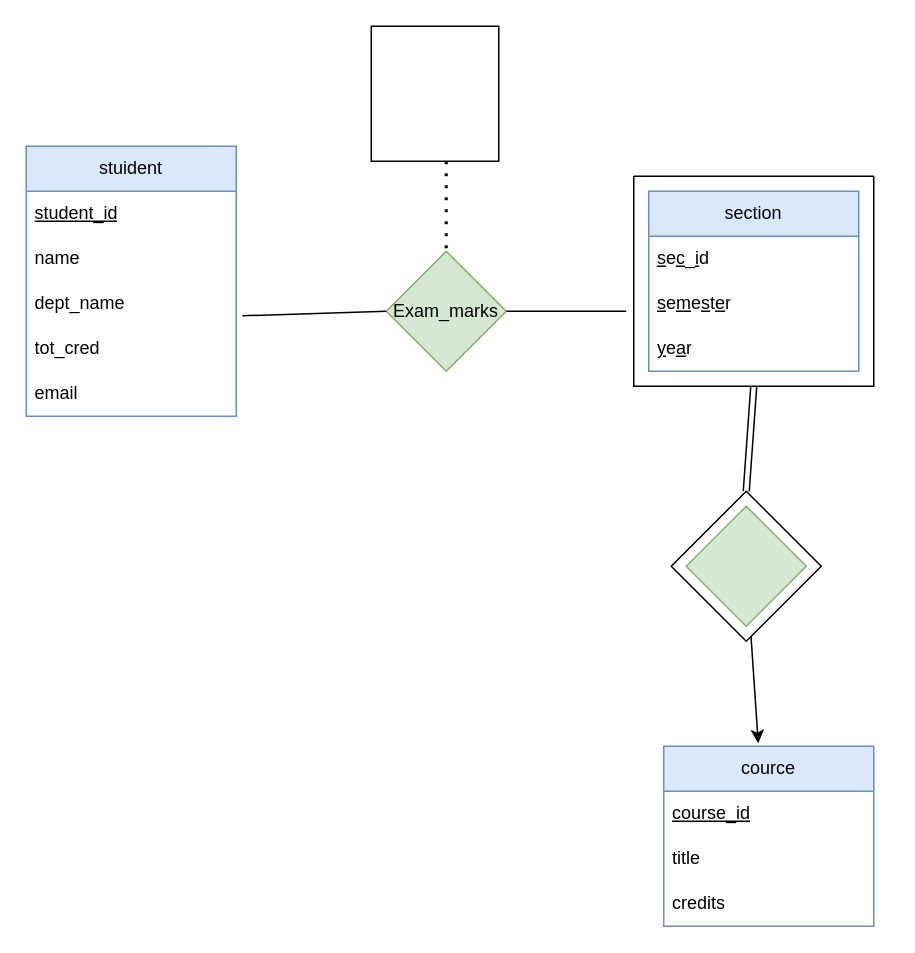
Some shapes in this 915 by 953 pixel diagram are drawn without their labels. The shapes that lost their labels are listed below. From the top down, each one's centre as x and y in pixels, then its label:
point (434, 93): grades id date
point (745, 565): sec_cource
